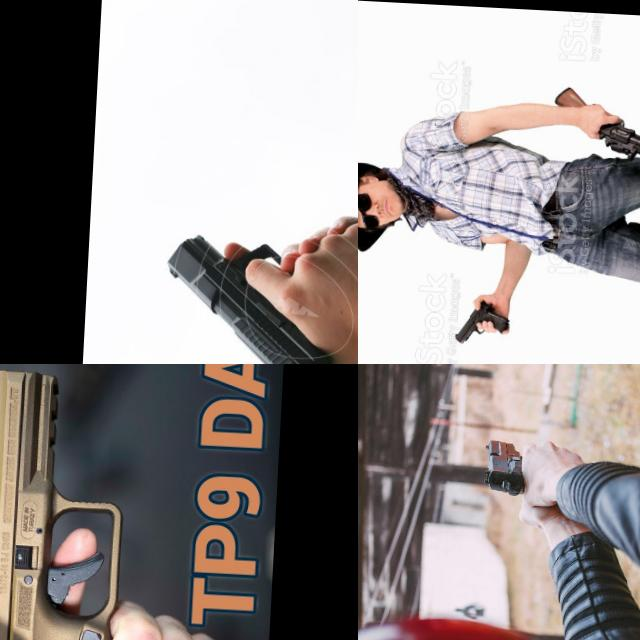handgun: (0, 364, 201, 640), (157, 230, 344, 364), (450, 294, 515, 353), (479, 434, 530, 500)
